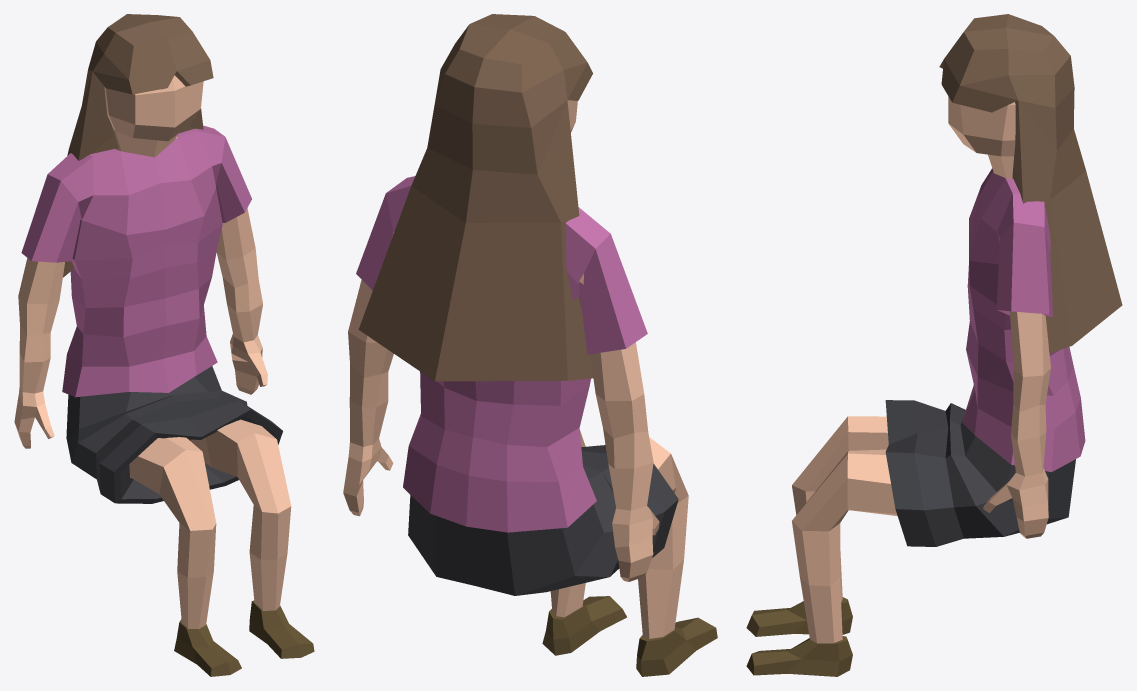
Rendered from girl.fbx.
The picture shows the model from 3 angles, left to right: view 1: azimuth 30°, elevation 25°; view 2: azimuth 150°, elevation 25°; view 3: azimuth 270°, elevation 25°; orthographic projection. The views are drawn at different scales.
Visible parts, largest first — view 1: _Girl; view 2: _Girl; view 3: _Girl.
Part boxes in pixels (box(x1,y1,x2,y2)): _Girl: box(14, 14, 314, 676); _Girl: box(343, 14, 717, 676); _Girl: box(746, 14, 1122, 676).
Size of the model in its own units: 50.95 by 112 by 61.29.
